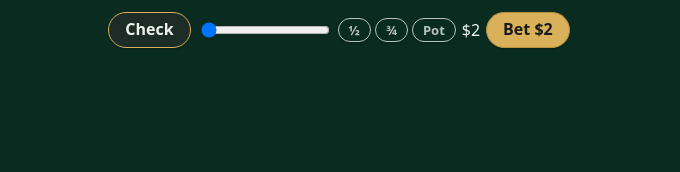
ActionBar › at all-in, none of ½/¾/Pot are falsely active (all clamp to the max)
This screenshot has width=680, height=172.
Set the slider to "50" at (322, 30), box [201, 22, 330, 38]
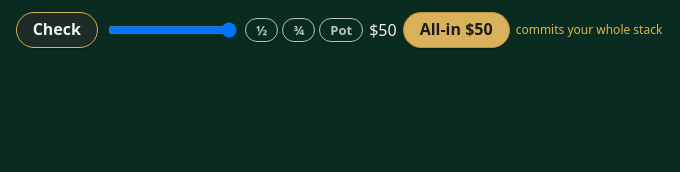
Now the text with test id "bet-size" reads "$50", box [369, 19, 397, 41]
